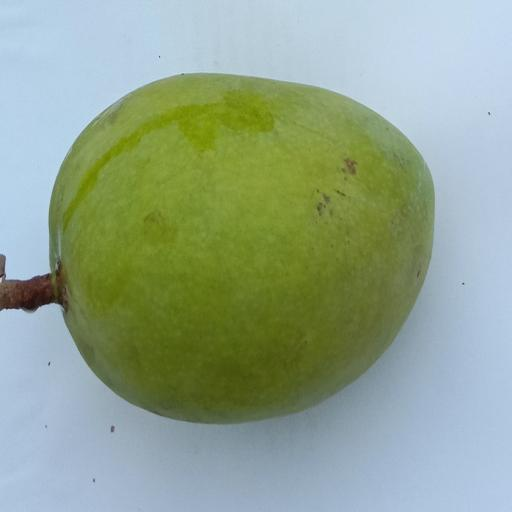mango-unripe: (33, 42, 457, 461)
